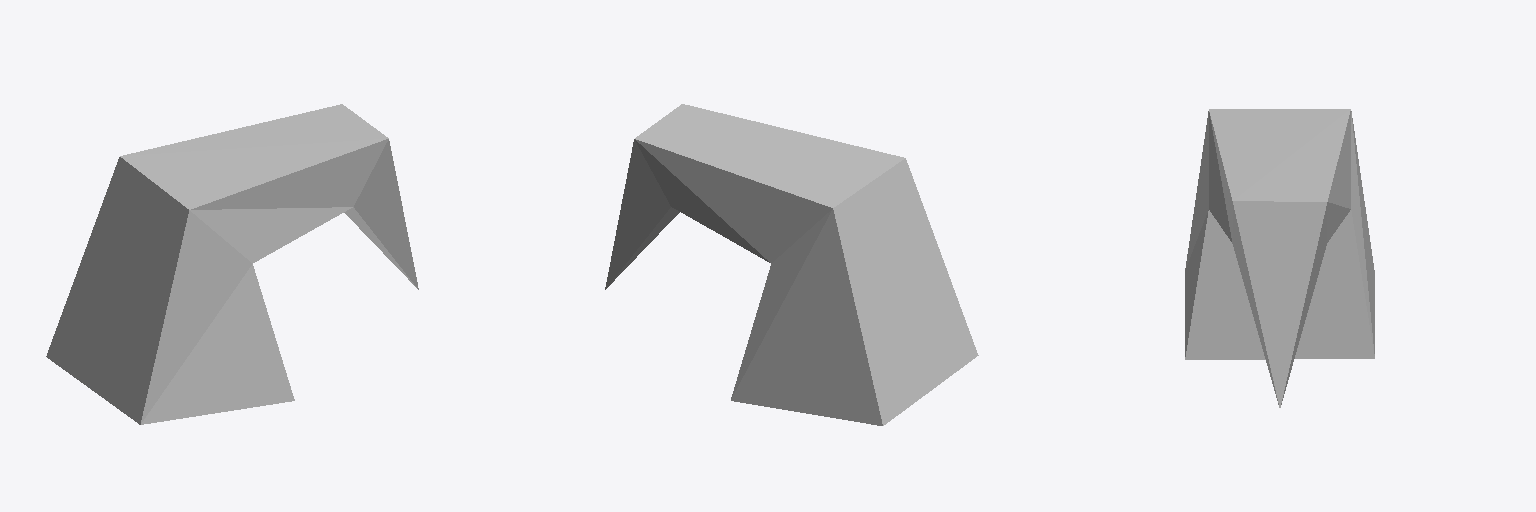
The model's file is skeletal_000024.obj.
3 views of the same model, side by side, from view 1: azimuth 30°, elevation 25°; view 2: azimuth 150°, elevation 25°; view 3: azimuth 270°, elevation 25° (orthographic).
Visible parts, largest first — view 1: Cube; view 2: Cube; view 3: Cube.
Boxes of the visible parts, x1=… form: Cube: x1=46, y1=104, x2=418, y2=424; Cube: x1=605, y1=104, x2=978, y2=425; Cube: x1=1185, y1=109, x2=1374, y2=407.
Bounding box in the file's own units: 3.97 × 2.52 × 2.